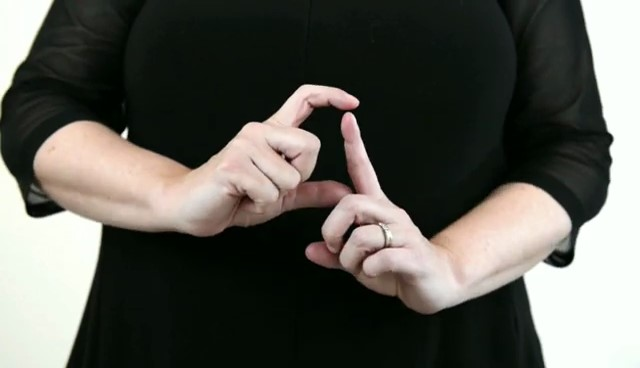D: (189, 75, 448, 329)
